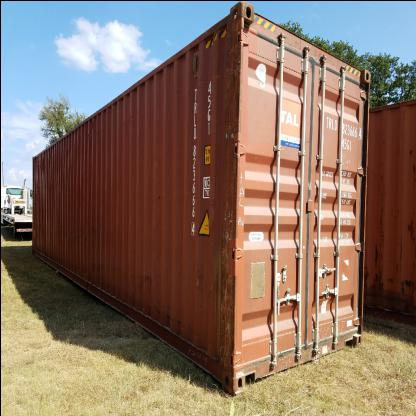Damage: (218, 12, 248, 374), (188, 261, 207, 305), (33, 210, 53, 248), (128, 264, 154, 286), (87, 254, 116, 271), (148, 188, 168, 205), (32, 156, 47, 176)
